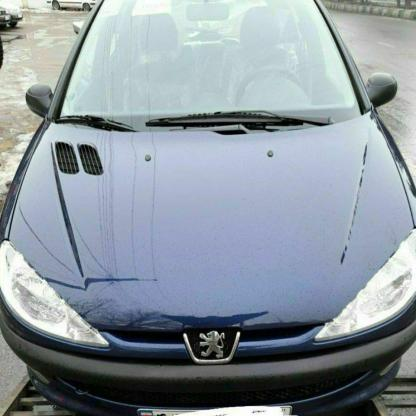Car: (0, 0, 412, 416), (0, 12, 24, 32)
